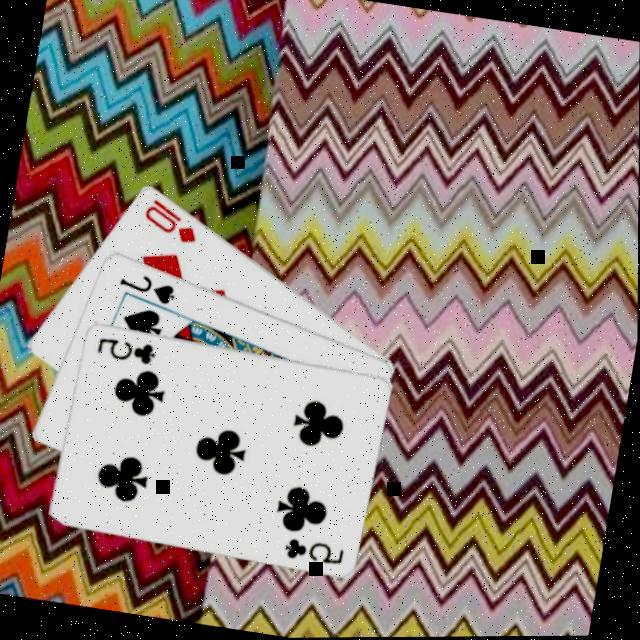10D: (136, 196, 204, 250)
5C: (279, 534, 346, 572), (92, 334, 158, 370)
JS: (113, 269, 180, 310)
